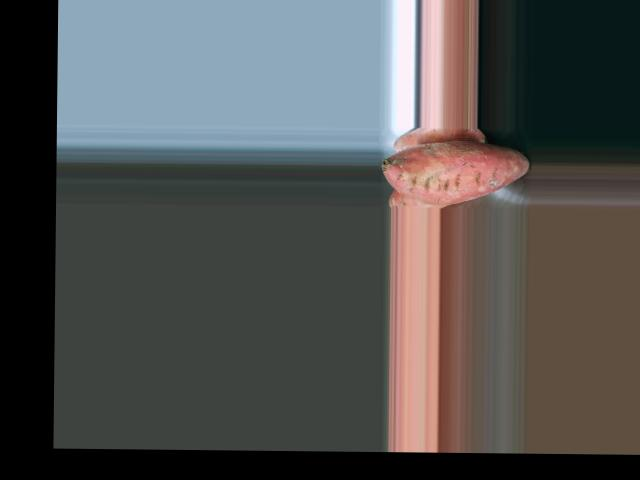sweet_potato: (381, 146, 528, 200)
